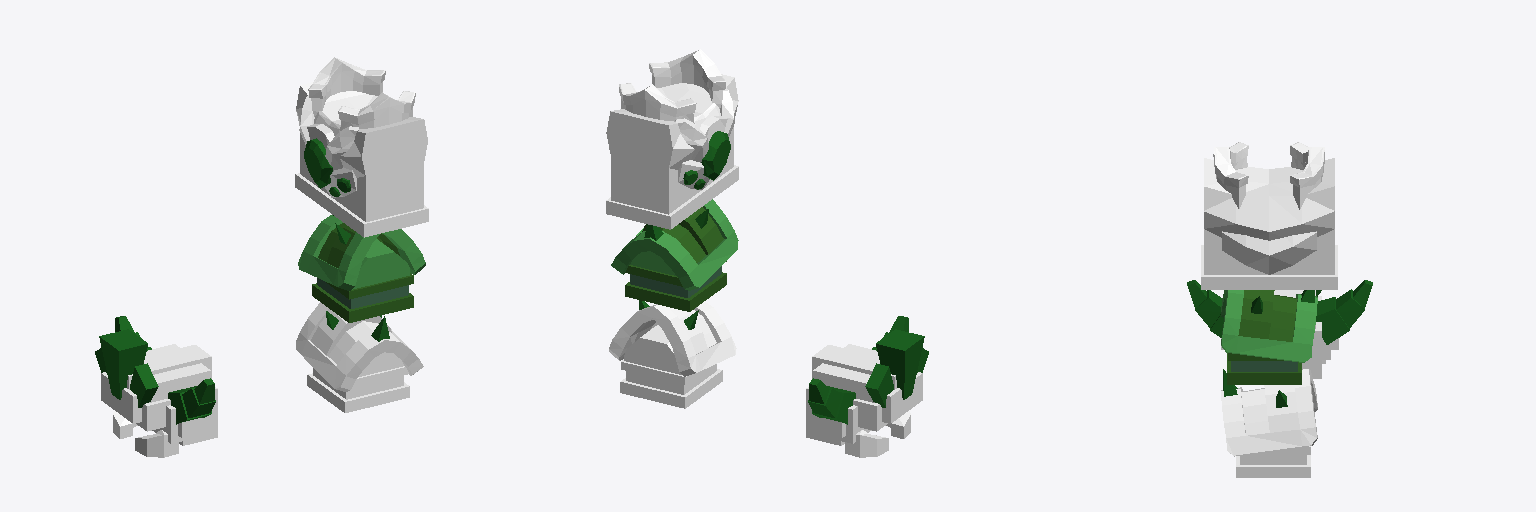
3 renders of one model, left to right at view 1: azimuth 30°, elevation 25°; view 2: azimuth 150°, elevation 25°; view 3: azimuth 270°, elevation 25°, orthographic.
Visible parts, largest first — view 1: Handle2, Handle3, Handle4, Handle1, Neon4, Neon1; view 2: Handle2, Handle4, Handle3, Handle1, Neon4, Neon1; view 3: Handle2, Handle4, Handle3, Neon4, Handle1.
Boxes of the visible parts, x1,y1,x2,y2 form: Handle2: [295, 57, 428, 237]; Handle3: [298, 215, 425, 322]; Handle4: [296, 302, 423, 412]; Handle1: [101, 344, 217, 457]; Neon4: [95, 316, 215, 424]; Neon1: [304, 138, 350, 196]; Handle2: [606, 49, 738, 229]; Handle4: [609, 301, 736, 408]; Handle3: [611, 199, 738, 311]; Handle1: [806, 344, 922, 457]; Neon4: [808, 316, 928, 424]; Neon1: [683, 131, 730, 189]; Handle2: [1201, 142, 1337, 289]; Handle4: [1221, 369, 1317, 477]; Handle3: [1221, 290, 1317, 384]; Neon4: [1187, 280, 1372, 344]; Handle1: [1221, 290, 1338, 378].
Bounding box in the file's own units: 5.21 × 5.34 × 2.84.
Materials: 5 (1 with a texture image).